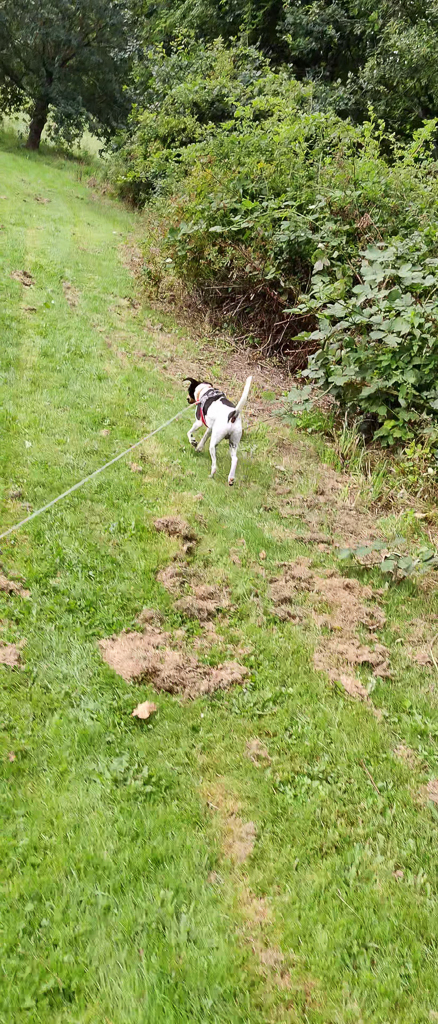Dog: (171, 367, 267, 490)
